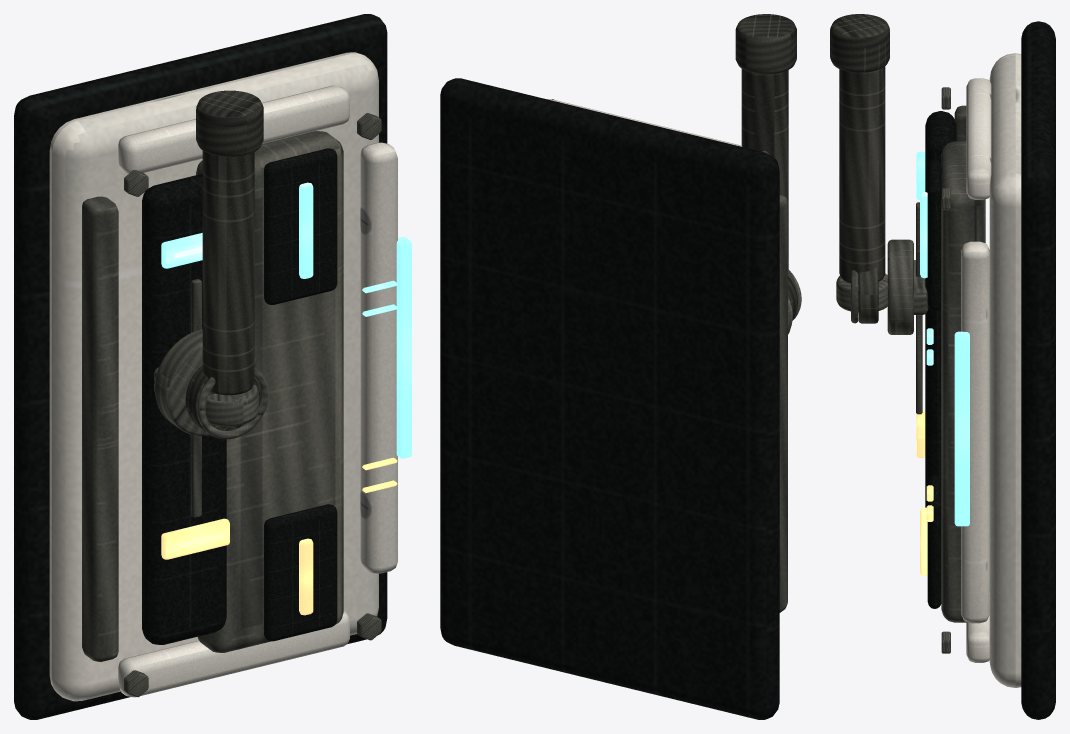
The model's file is hp_wall_door_switch_button_v1.glb.
3 views of the same model, side by side, from view 1: azimuth 30°, elevation 25°; view 2: azimuth 150°, elevation 25°; view 3: azimuth 270°, elevation 25° (orthographic). The views are drawn at different scales.
Visible parts, largest first — view 1: wall_switch_rounded_ceramic_wall_plate, wall_switch_shadow_gasket_backplate, wall_switch_smoked_titanium_main_spine, wall_switch_black_vertical_motion_slot, wall_switch_left_guard_rail, wall_switch_right_ceramic_guard, wall_switch_lever_movable_short_upper_pull_rod, wall_switch_top_status_smoked_window, wall_switch_bottom_status_smoked_window, wall_switch_ceramic_upper_cap, wall_switch_ceramic_lower_cap, wall_switch_lever_movable_top_grip_cap (+10 smaller); view 2: wall_switch_shadow_gasket_backplate, wall_switch_lever_movable_short_upper_pull_rod, wall_switch_left_guard_rail, wall_switch_lever_movable_top_grip_cap; view 3: wall_switch_shadow_gasket_backplate, wall_switch_rounded_ceramic_wall_plate, wall_switch_lever_movable_short_upper_pull_rod, wall_switch_smoked_titanium_main_spine, wall_switch_right_ceramic_guard, wall_switch_black_vertical_motion_slot, wall_switch_lever_movable_top_grip_cap, wall_switch_right_side_cyan_glass_slit, wall_switch_ceramic_upper_cap, wall_switch_lever_movable_bearing_disc_back, wall_switch_top_status_smoked_window, wall_switch_bottom_status_smoked_window (+11 smaller).
Part boxes in pixels (x1,y1,x2,y2): wall_switch_rounded_ceramic_wall_plate: (49, 52, 378, 701); wall_switch_shadow_gasket_backplate: (14, 14, 387, 719); wall_switch_smoked_titanium_main_spine: (196, 131, 343, 652); wall_switch_black_vertical_motion_slot: (142, 173, 226, 644); wall_switch_left_guard_rail: (82, 196, 118, 661); wall_switch_right_ceramic_guard: (360, 142, 397, 573); wall_switch_lever_movable_short_upper_pull_rod: (202, 151, 254, 395); wall_switch_top_status_smoked_window: (264, 148, 337, 304); wall_switch_bottom_status_smoked_window: (264, 504, 337, 641); wall_switch_ceramic_upper_cap: (118, 85, 349, 173); wall_switch_ceramic_lower_cap: (118, 611, 349, 697); wall_switch_lever_movable_top_grip_cap: (196, 90, 263, 156); wall_switch_shadow_gasket_backplate: (440, 78, 779, 719); wall_switch_lever_movable_short_upper_pull_rod: (741, 69, 788, 270); wall_switch_left_guard_rail: (779, 194, 787, 612); wall_switch_lever_movable_top_grip_cap: (735, 14, 796, 74); wall_switch_shadow_gasket_backplate: (1021, 21, 1055, 719); wall_switch_rounded_ceramic_wall_plate: (989, 53, 1021, 687); wall_switch_lever_movable_short_upper_pull_rod: (839, 66, 885, 284); wall_switch_smoked_titanium_main_spine: (941, 141, 983, 622); wall_switch_right_ceramic_guard: (961, 241, 989, 623); wall_switch_black_vertical_motion_slot: (925, 111, 956, 507); wall_switch_lever_movable_top_grip_cap: (830, 14, 889, 72); wall_switch_right_side_cyan_glass_slit: (954, 331, 969, 526); wall_switch_ceramic_upper_cap: (966, 78, 991, 199); wall_switch_lever_movable_bearing_disc_back: (887, 239, 913, 334); wall_switch_top_status_smoked_window: (927, 159, 941, 310); wall_switch_bottom_status_smoked_window: (927, 474, 941, 608).
Bounding box in the file's own units: 0.49 × 0.8475 × 0.2935.
Materials: 6 (6 with a texture image).
